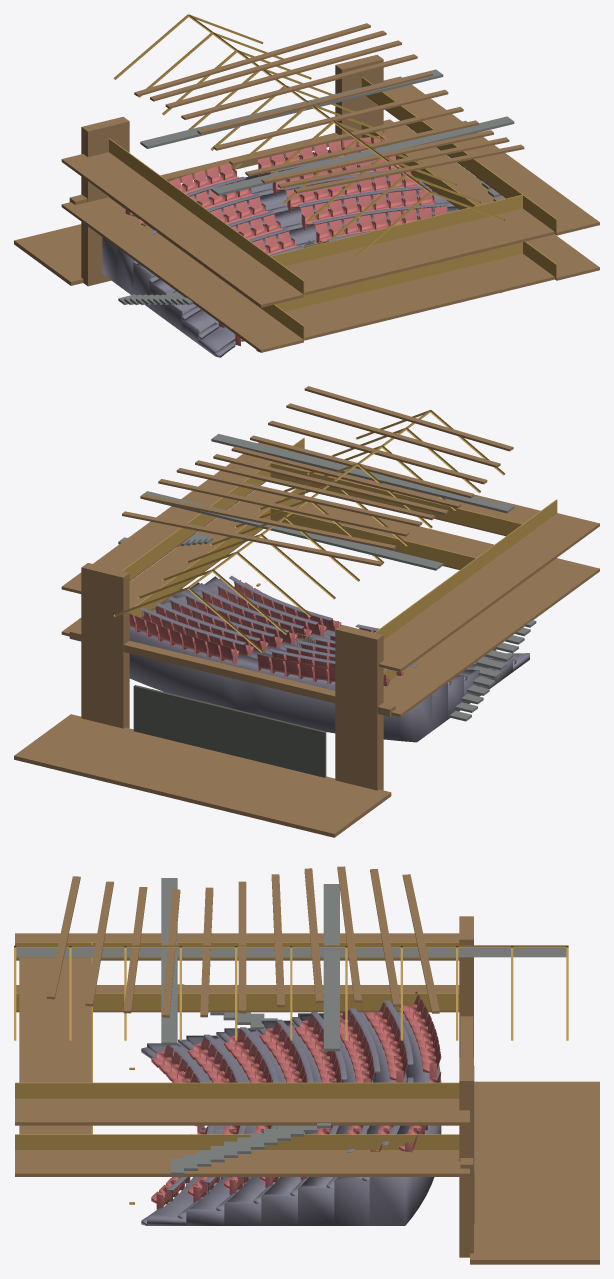
File: conservatory-props.glb
The picture shows the model from 3 angles, top to bottom: view 1: azimuth 30°, elevation 25°; view 2: azimuth 150°, elevation 25°; view 3: azimuth 270°, elevation 25°; orthographic projection. The views are drawn at different scales.
Parts seen in each view (by area): view 1: hall_structure, hall_seating, chapel_vault; view 2: hall_structure, hall_seating, chapel_vault; view 3: hall_structure, hall_seating, chapel_vault.
Boxes of the visible parts, left/top/right/bottom form: hall_structure: left=14, top=23, right=599, bottom=352; hall_seating: left=102, top=135, right=459, bottom=357; chapel_vault: left=114, top=14, right=504, bottom=256; hall_structure: left=14, top=386, right=599, bottom=837; hall_seating: left=129, top=576, right=529, bottom=742; chapel_vault: left=113, top=410, right=505, bottom=652; hall_structure: left=15, top=866, right=599, bottom=1264; hall_seating: left=141, top=991, right=441, bottom=1225; chapel_vault: left=14, top=945, right=568, bottom=1040.
Size of the model in its own units: 28.2 by 16.42 by 36.07.
